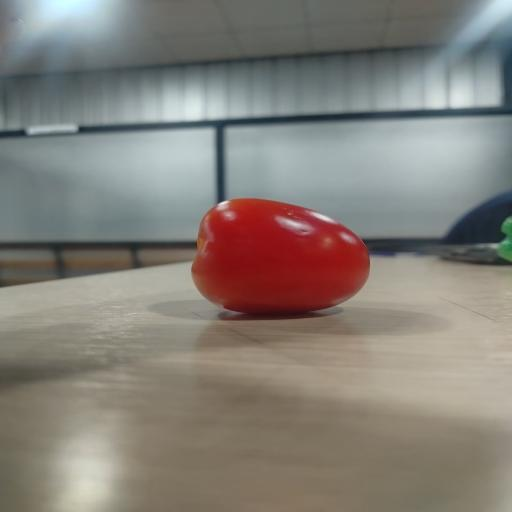ripe: (192, 199, 369, 314)
